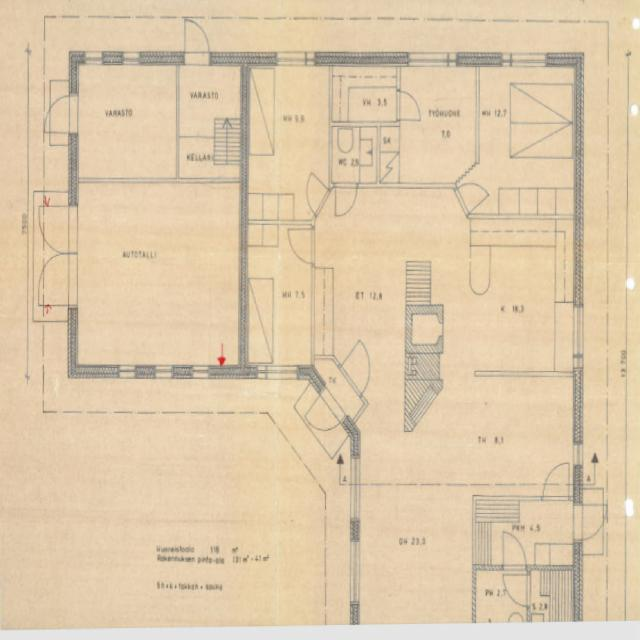door: (298, 384, 346, 452), (338, 335, 382, 396), (32, 206, 78, 256), (32, 256, 78, 306), (297, 172, 330, 216), (40, 96, 78, 134), (184, 15, 210, 66), (574, 504, 610, 540), (456, 173, 486, 215), (544, 461, 568, 500), (502, 531, 526, 570), (286, 229, 313, 263), (506, 575, 531, 605), (335, 183, 357, 217), (397, 92, 419, 120)
